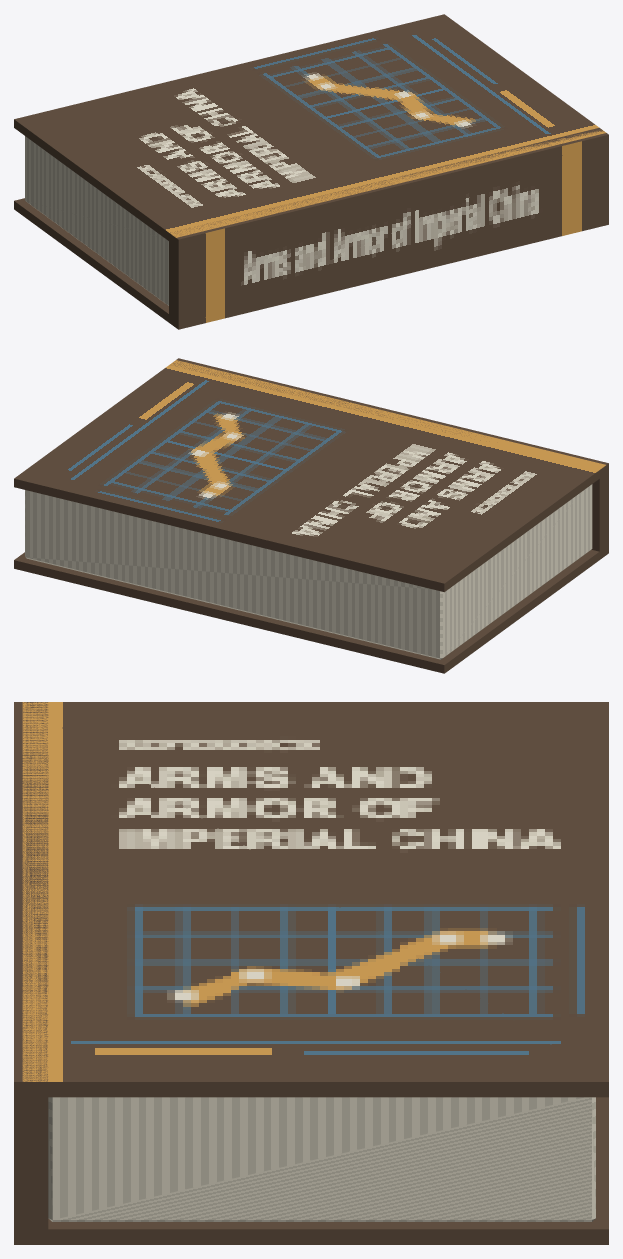
Rendered from textbook_armschina.glb.
The picture shows the model from 3 angles, top to bottom: view 1: azimuth 30°, elevation 25°; view 2: azimuth 150°, elevation 25°; view 3: azimuth 270°, elevation 25°; orthographic projection. The views are drawn at different scales.
Visible parts, largest first — view 1: block_front, block_spine, block_pages, block_back; view 2: block_front, block_pages, block_back, block_spine; view 3: block_front, block_pages, block_spine, block_back.
Boxes of the visible parts, box(x1,y1,x2,y2) form: block_front: box(14, 14, 606, 245); block_spine: box(169, 127, 608, 329); block_pages: box(25, 136, 168, 305); block_back: box(14, 198, 175, 327); block_front: box(14, 360, 606, 592); block_pages: box(25, 484, 592, 659); block_back: box(14, 547, 606, 673); block_spine: box(173, 358, 608, 554); block_front: box(22, 702, 608, 1097); block_pages: box(48, 1097, 595, 1221); block_spine: box(14, 702, 48, 1244); block_back: box(22, 1097, 608, 1244).
Bounding box in the file's own units: 0.2661 × 0.0532 × 0.1761.
1 material, 1 textured.
